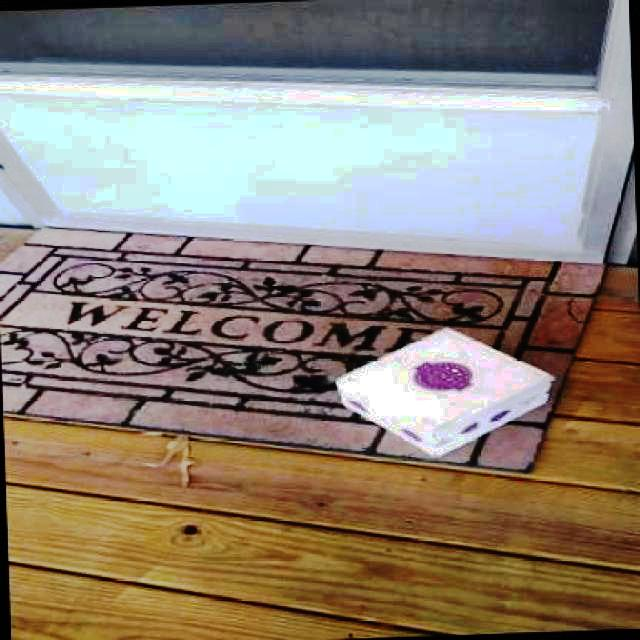Box: (336, 326, 556, 460)
